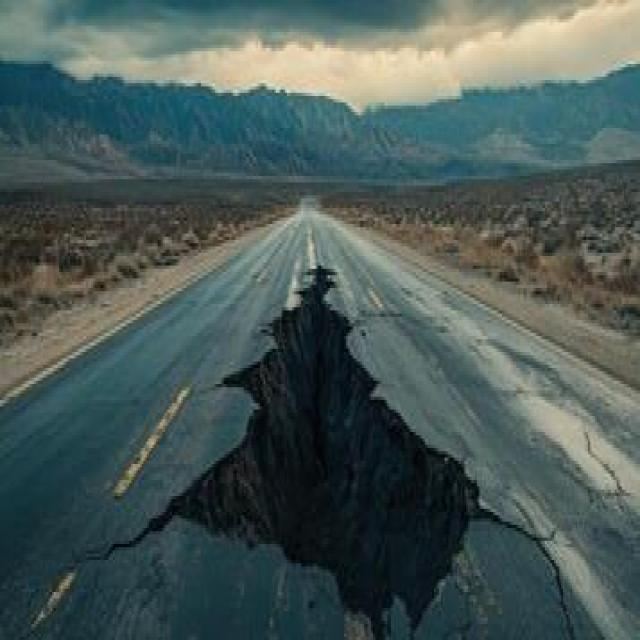road collapse: (140, 214, 638, 640)
